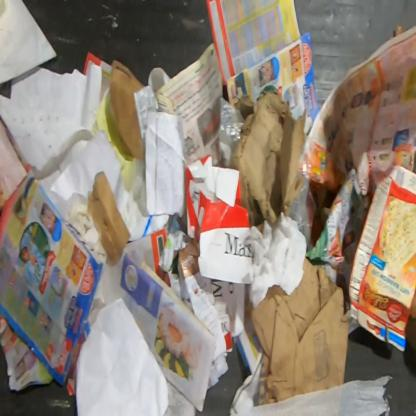cardboard: (205, 0, 321, 136), (250, 257, 350, 407), (184, 154, 254, 357), (348, 162, 415, 354), (229, 91, 308, 236), (88, 171, 132, 267), (108, 58, 146, 160)
soft_plastic: (287, 135, 317, 247), (217, 95, 245, 152)
